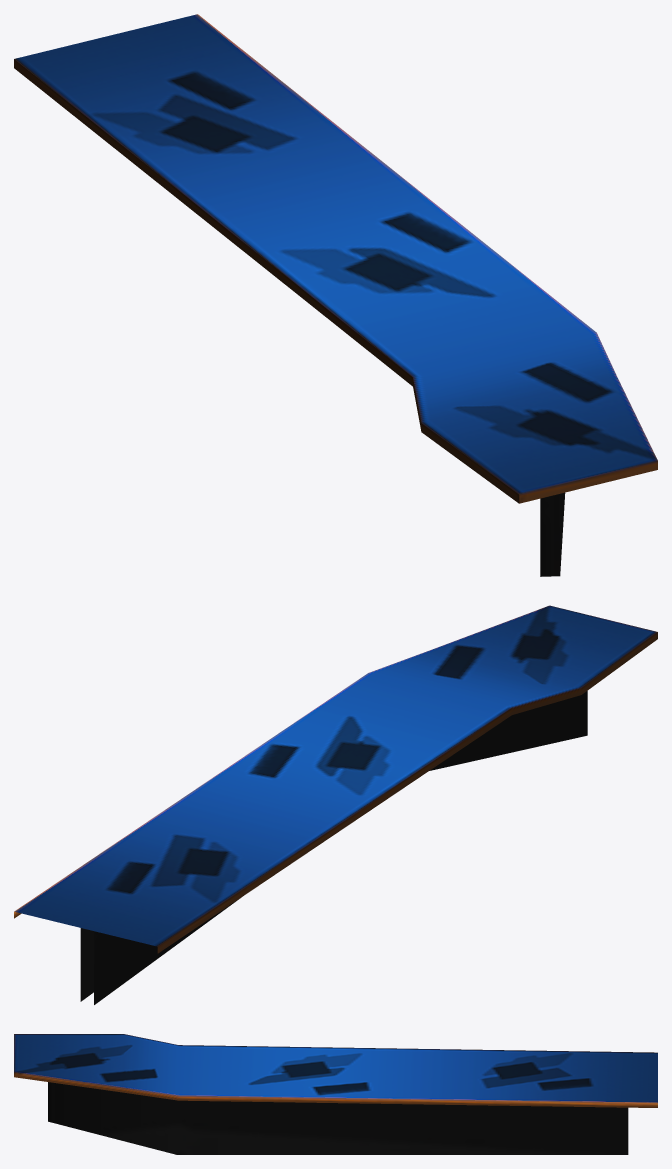
Rendered from Tx_prop_table_computing.fbx.
3 renders of one model, top to bottom at view 1: azimuth 30°, elevation 25°; view 2: azimuth 150°, elevation 25°; view 3: azimuth 270°, elevation 25°, orthographic. The views are drawn at different scales.
Parts seen in each view (by area): view 1: Tx_prop_table_computing; view 2: Tx_prop_table_computing; view 3: Tx_prop_table_computing.
Part boxes in pixels (x1=…): Tx_prop_table_computing: x1=14, y1=14, x2=657, y2=576; Tx_prop_table_computing: x1=14, y1=605, x2=657, y2=1004; Tx_prop_table_computing: x1=14, y1=1034, x2=657, y2=1154.
Bounding box in the file's own units: 11.15 × 5.13 × 43.99.
